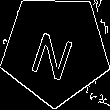N_N: (29, 20, 81, 79)
